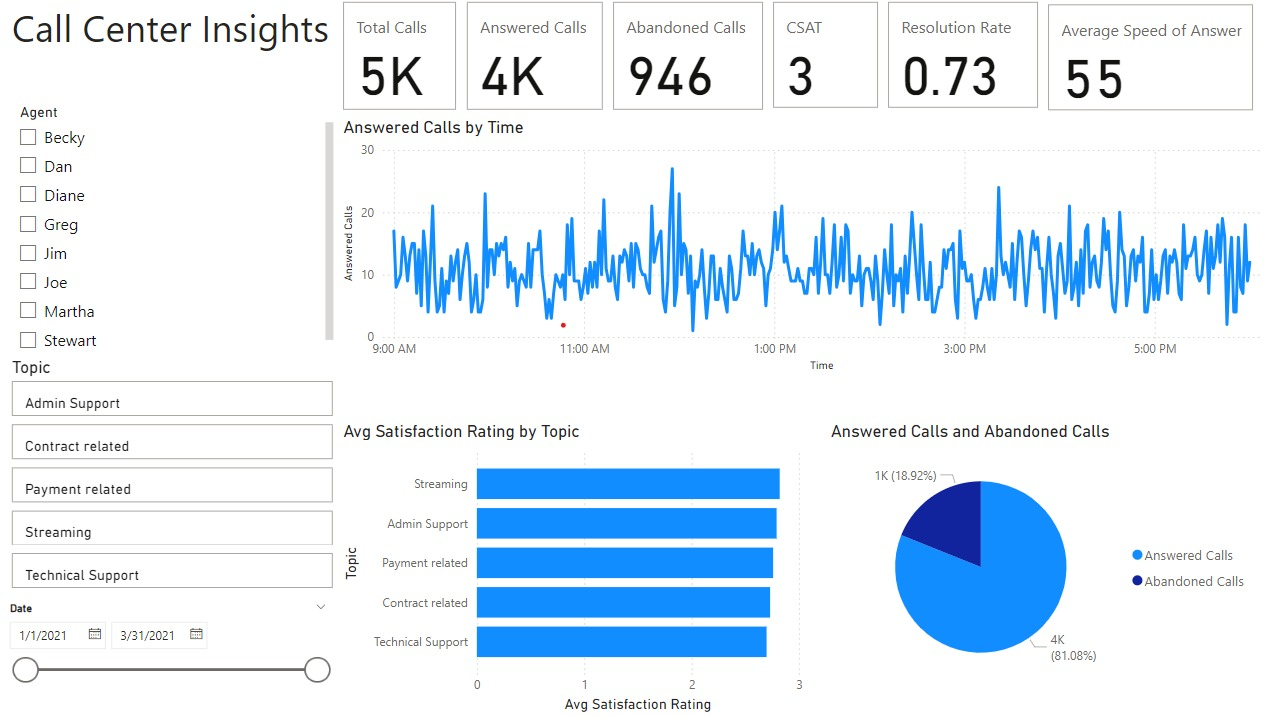

Layout of this report page (visuals, bound fields, positions):
{"tool":"powerbi","page":{"name":"Page 1","canvas":[1280,720],"ordinal":0},"visuals":[{"type":"cardVisual","fields":{"Data":["Sheet1.Abandoned Calls"]},"box":[611.2,0,160,118.8],"z":0},{"type":"cardVisual","fields":{"Data":["Sheet1.Answered Calls"]},"box":[465,0,146.2,118.8],"z":1000},{"type":"cardVisual","fields":{"Data":["Sheet1.Average Speed of Answer"]},"box":[1046.2,2.5,215,116.2],"z":2000},{"type":"cardVisual","fields":{"Data":["Sheet1.CSAT"]},"box":[771.2,0,115,116.2],"z":3000},{"type":"cardVisual","fields":{"Data":["Sheet1.Resolution Rate"]},"box":[886.2,0,160,116.2],"z":4000},{"type":"cardVisual","fields":{"Data":["Sheet1.Total Calls"]},"box":[341.2,0,123.8,118.8],"z":5000},{"type":"lineChart","fields":{"Category":["Sheet1.Time"],"Y":["Sheet1.Answered Calls"]},"box":[341.2,120,938.8,260],"z":6000},{"type":"barChart","fields":{"Category":["Sheet1.Topic"],"Y":["Sheet1.Avg Satisfaction Rating"]},"box":[341.2,423.8,470,296.2],"z":7000},{"type":"pieChart","fields":{"Y":["Sheet1.Answered Calls","Sheet1.Abandoned Calls"]},"box":[828.8,423.8,432.5,273.8],"z":8000},{"type":"slicer","fields":{"Values":["Sheet1.Date"]},"box":[0,600,341.2,120],"z":9000},{"type":"slicer","fields":{"Values":["Sheet1.Agent"]},"box":[10,101.2,331.2,258.8],"z":10000},{"type":"advancedSlicerVisual","fields":{"Values":["Sheet1.Topic"]},"box":[10,360,331.2,240],"z":10001},{"type":"textbox","box":[10,0,331.2,87.5],"z":10002}]}

Visuals, with their boxes in screenshot pixels (x1, y1, x2, y2), scaled from the page's 1280x720 canvas onto the 1267x716 screenshot:
cardVisual - Sheet1.Abandoned Calls: 605:0:763:118
cardVisual - Sheet1.Answered Calls: 460:0:605:118
cardVisual - Sheet1.Average Speed of Answer: 1036:2:1248:118
cardVisual - Sheet1.CSAT: 763:0:877:116
cardVisual - Sheet1.Resolution Rate: 877:0:1036:116
cardVisual - Sheet1.Total Calls: 338:0:460:118
lineChart - Sheet1.Time x Sheet1.Answered Calls: 338:119:1266:378
barChart - Sheet1.Topic x Sheet1.Avg Satisfaction Rating: 338:421:803:715
pieChart - Sheet1.Answered Calls x Sheet1.Abandoned Calls: 820:421:1248:694
slicer - Sheet1.Date: 0:597:338:715
slicer - Sheet1.Agent: 10:101:338:358
advancedSlicerVisual - Sheet1.Topic: 10:358:338:597
textbox: 10:0:338:87
